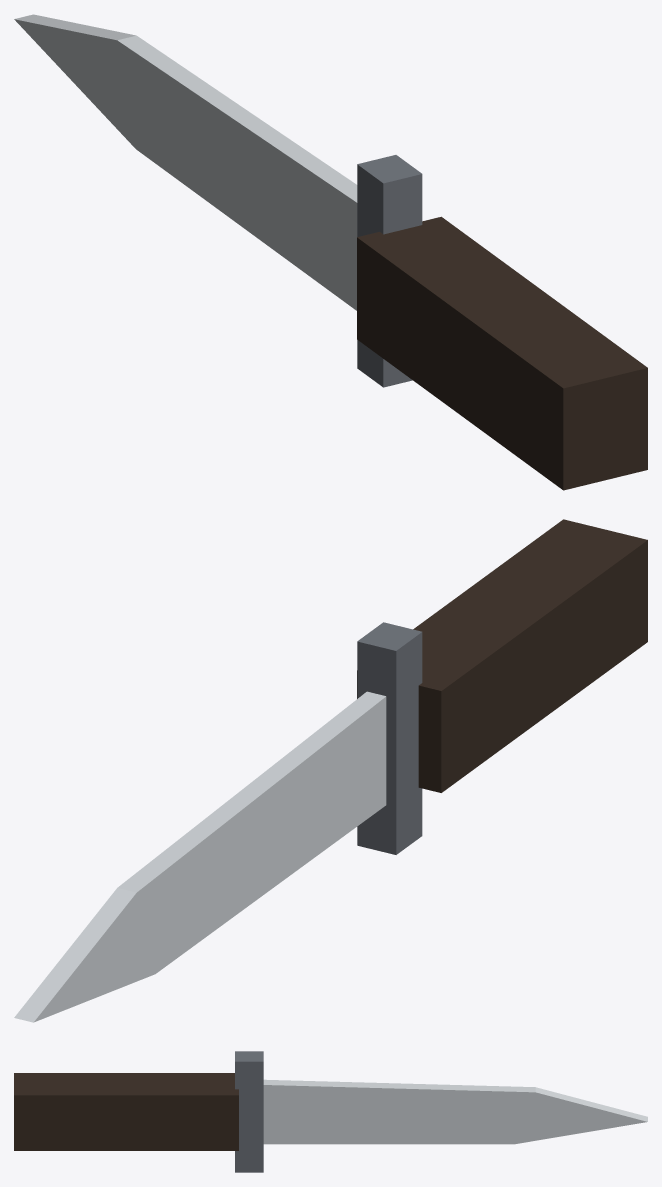
The model's file is w_knife.glb.
3 views of the same model, one above another, from view 1: azimuth 30°, elevation 25°; view 2: azimuth 150°, elevation 25°; view 3: azimuth 270°, elevation 25° (orthographic). The views are drawn at different scales.
Visible parts, largest first — view 1: w_knife; view 2: w_knife; view 3: w_knife.
Part boxes in pixels (<box>): w_knife: <box>14,14,647,490</box>; w_knife: <box>14,519,647,1022</box>; w_knife: <box>14,1051,647,1172</box>.
Bounding box in the file's own units: 0.026 × 0.06 × 0.31.
